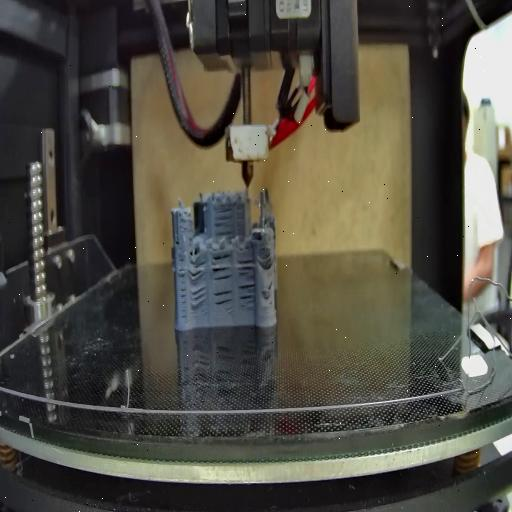cracks: (188, 246, 210, 284), (213, 205, 237, 236), (191, 283, 209, 317), (214, 286, 234, 316), (237, 282, 256, 312), (212, 253, 232, 281), (179, 256, 187, 323), (238, 252, 257, 278), (262, 254, 274, 272), (266, 278, 274, 298), (176, 234, 180, 247)
